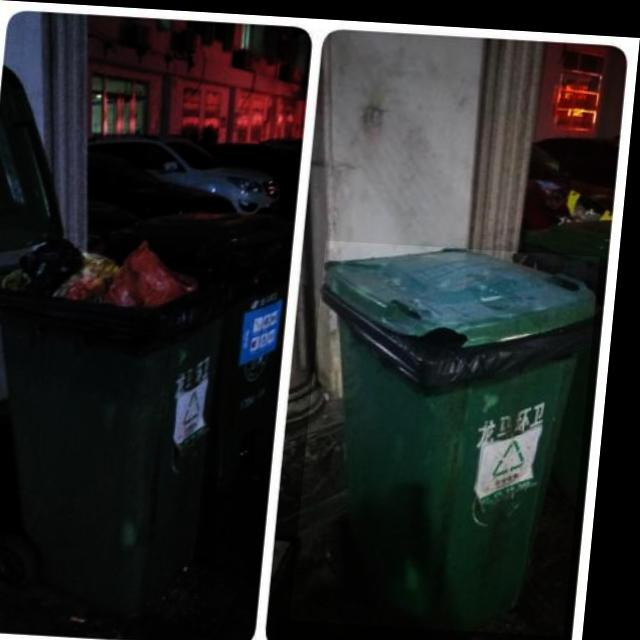garbage_bin: (302, 236, 604, 629)
overflow: (0, 228, 235, 612)
